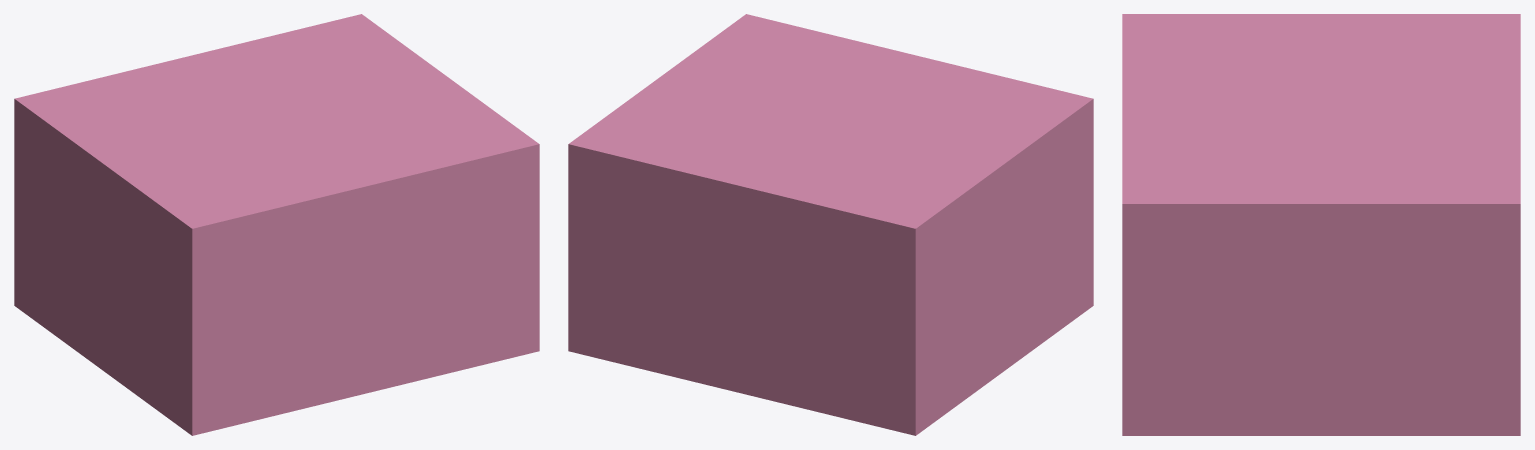
File: utah_rock_small_b.dae
3 views of the same model, side by side, from view 1: azimuth 30°, elevation 25°; view 2: azimuth 150°, elevation 25°; view 3: azimuth 270°, elevation 25° (orthographic). The views are drawn at different scales.
Visible parts, largest first — view 1: Untitled; view 2: Untitled; view 3: Untitled.
Boxes of the visible parts, <box> form: Untitled: <box>14,14,539,435</box>; Untitled: <box>568,14,1093,435</box>; Untitled: <box>1122,14,1520,435</box>.
Bounding box in the file's own units: 0.8654 × 0.7673 × 0.4931.
